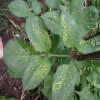Tomato leaf mosaic virus: (21, 55, 51, 93), (51, 61, 78, 99), (25, 17, 51, 53), (60, 9, 80, 53)
